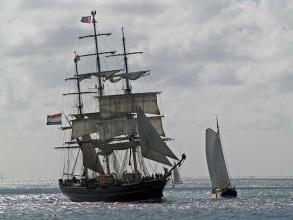fanchuan: (54, 5, 192, 203), (200, 115, 243, 199), (170, 159, 184, 188)
